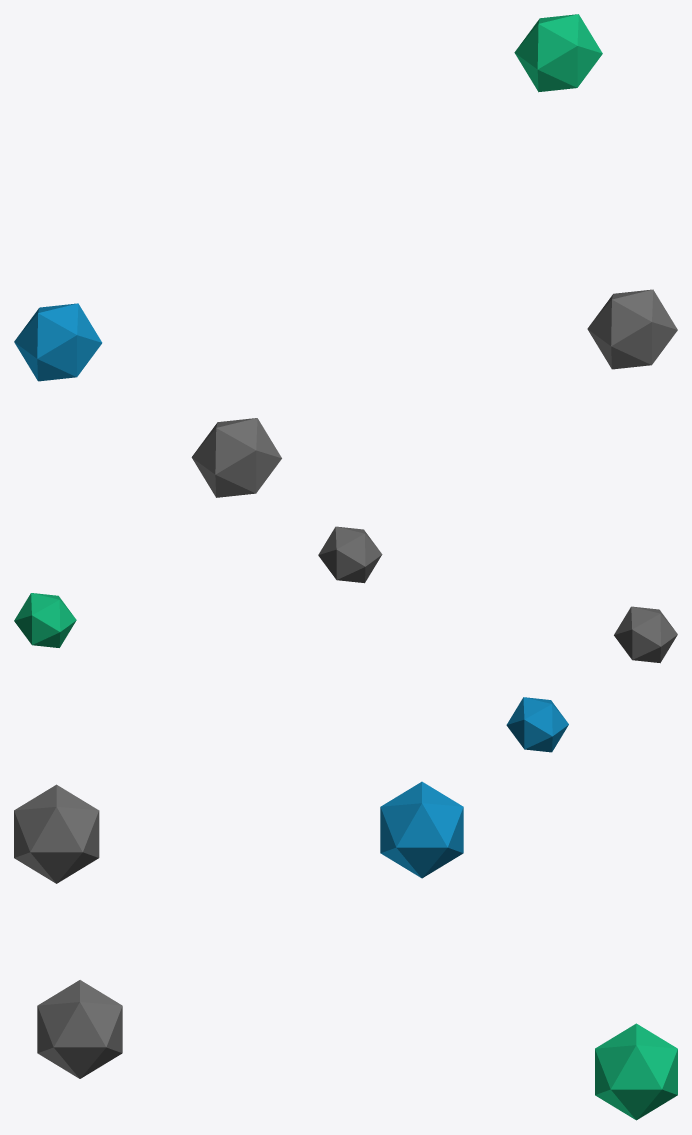
The picture shows the model from 3 angles, top to bottom: view 1: azimuth 30°, elevation 25°; view 2: azimuth 150°, elevation 25°; view 3: azimuth 270°, elevation 25°; orthographic projection. The views are drawn at different scales.
Visible parts, largest first — view 1: 01_07_00; view 2: 01_07_00; view 3: 01_07_00.
Part boxes in pixels (x1,y1,x2,y2): 01_07_00: (14,14,677,497); 01_07_00: (14,526,677,752); 01_07_00: (14,781,677,1120).
Size of the model in its own units: 0.5512 by 0.1118 by 0.4333.
